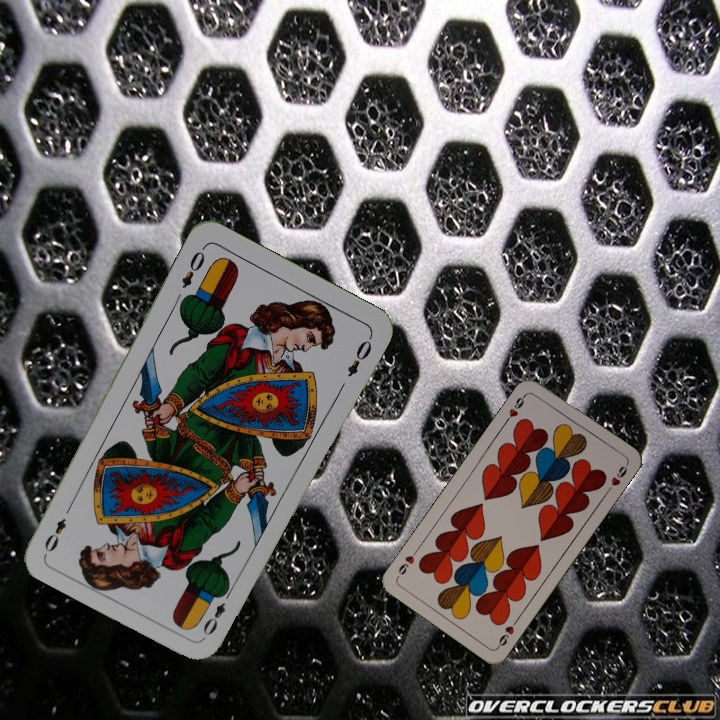EO: (198, 584, 235, 639), (177, 242, 208, 291)
H9: (493, 615, 521, 651), (501, 390, 529, 425)
